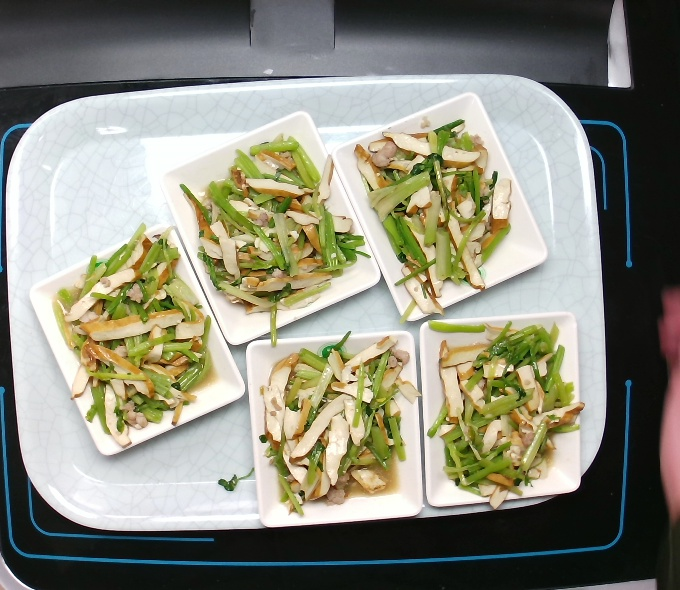wcq-XiangGanQinCai: (172, 128, 371, 350), (47, 219, 219, 452), (351, 112, 517, 327), (254, 325, 423, 517), (423, 315, 588, 511)
